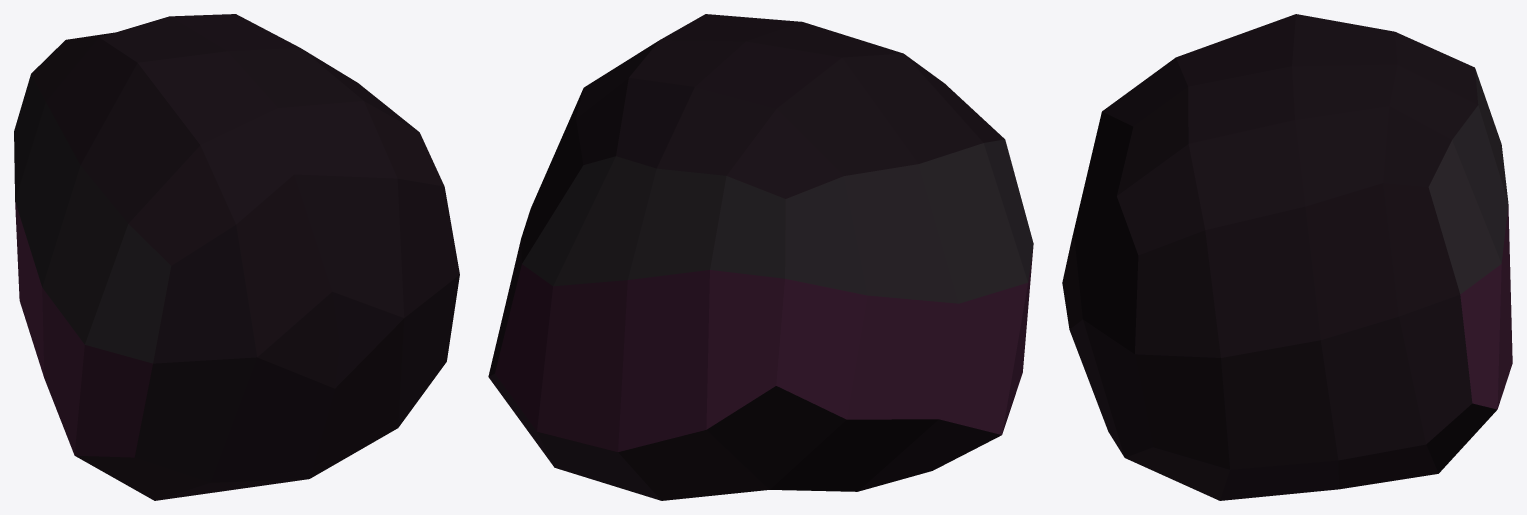
File: coal.glb
The picture shows the model from 3 angles, left to right: view 1: azimuth 30°, elevation 25°; view 2: azimuth 150°, elevation 25°; view 3: azimuth 270°, elevation 25°; orthographic projection. The views are drawn at different scales.
Parts seen in each view (by area): view 1: coal; view 2: coal; view 3: coal.
Boxes of the visible parts, x1,y1,x2,y2 form: coal: (14, 14, 459, 500); coal: (488, 14, 1033, 500); coal: (1062, 14, 1512, 500).
Size of the model in its own units: 0.1306 by 0.1328 by 0.1302.
1 material, 1 textured.
